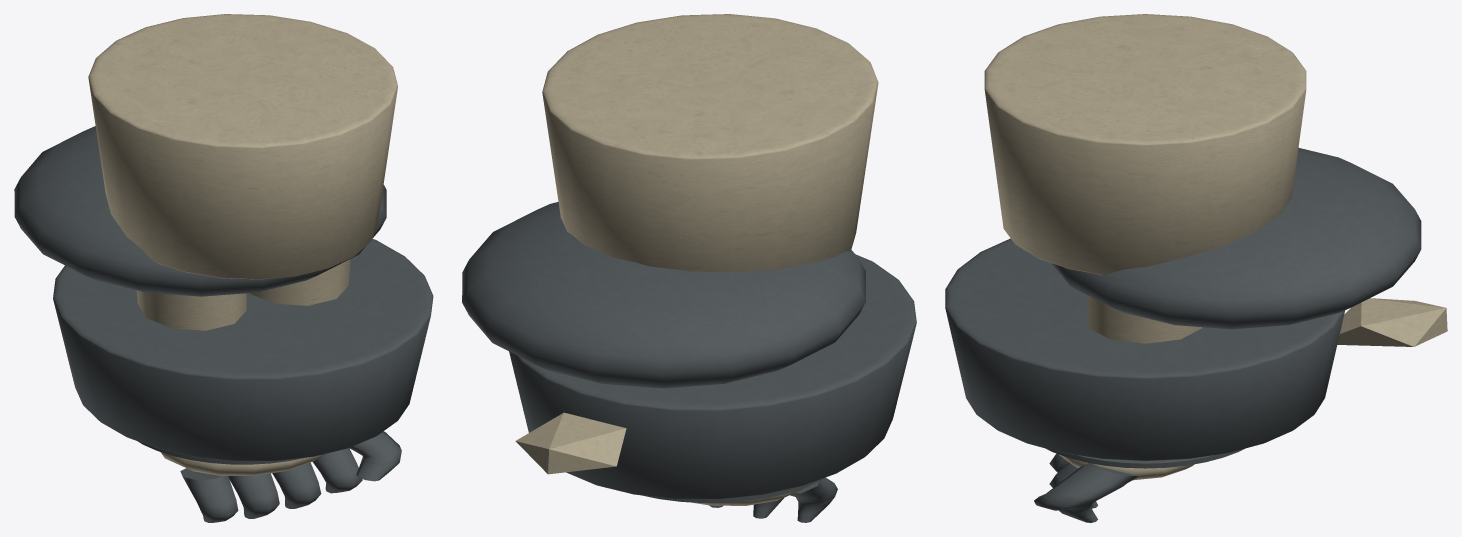
The model's file is bone_sentry_arm.glb.
3 views of the same model, side by side, from view 1: azimuth 30°, elevation 25°; view 2: azimuth 150°, elevation 25°; view 3: azimuth 270°, elevation 25° (orthographic). The views are drawn at different scales.
Parts seen in each view (by area): view 1: bone_sentry_arm ossuary dark iron, bone_sentry_arm aged bone; view 2: bone_sentry_arm ossuary dark iron, bone_sentry_arm aged bone; view 3: bone_sentry_arm ossuary dark iron, bone_sentry_arm aged bone.
Part boxes in pixels (x1,y1,x2,y2): bone_sentry_arm ossuary dark iron: (14, 126, 433, 522); bone_sentry_arm aged bone: (88, 14, 397, 475); bone_sentry_arm ossuary dark iron: (462, 202, 916, 522); bone_sentry_arm aged bone: (515, 14, 878, 505); bone_sentry_arm ossuary dark iron: (945, 148, 1421, 522); bone_sentry_arm aged bone: (984, 14, 1447, 480).
Size of the model in its own units: 0.86 by 1.04 by 1.13.
2 materials, 2 textured.
